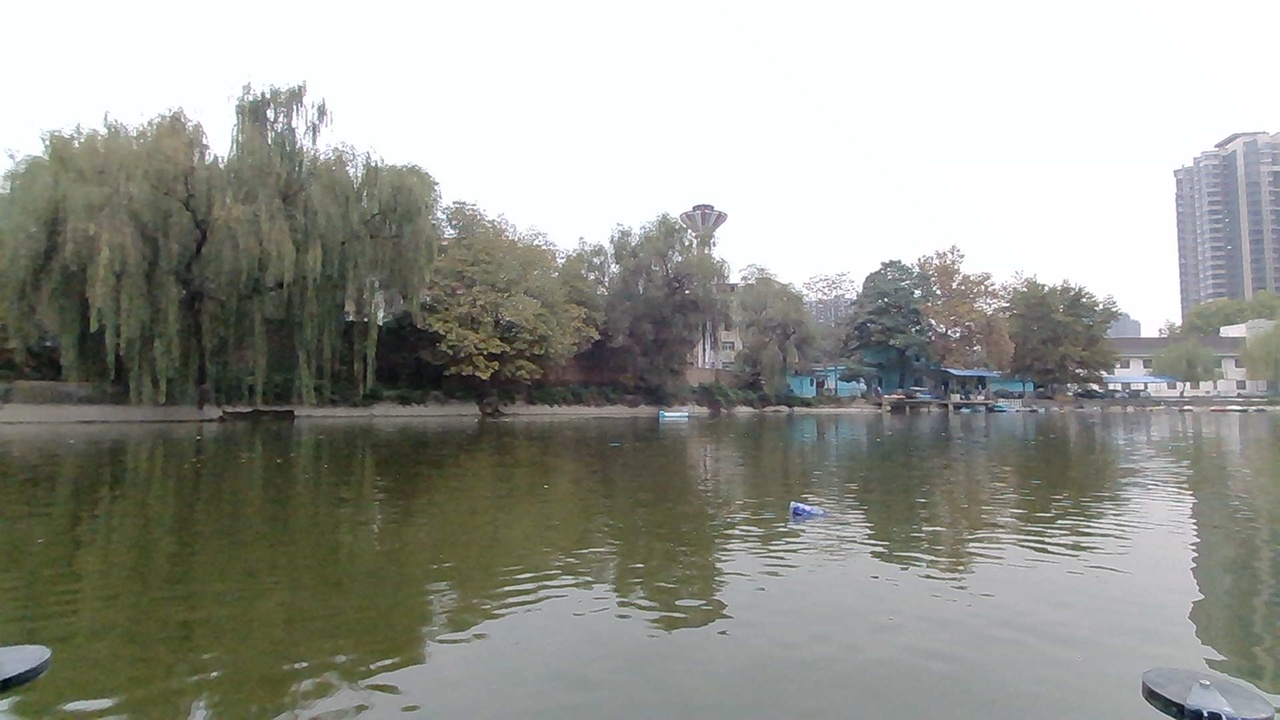bottle: (785, 497, 830, 531)
